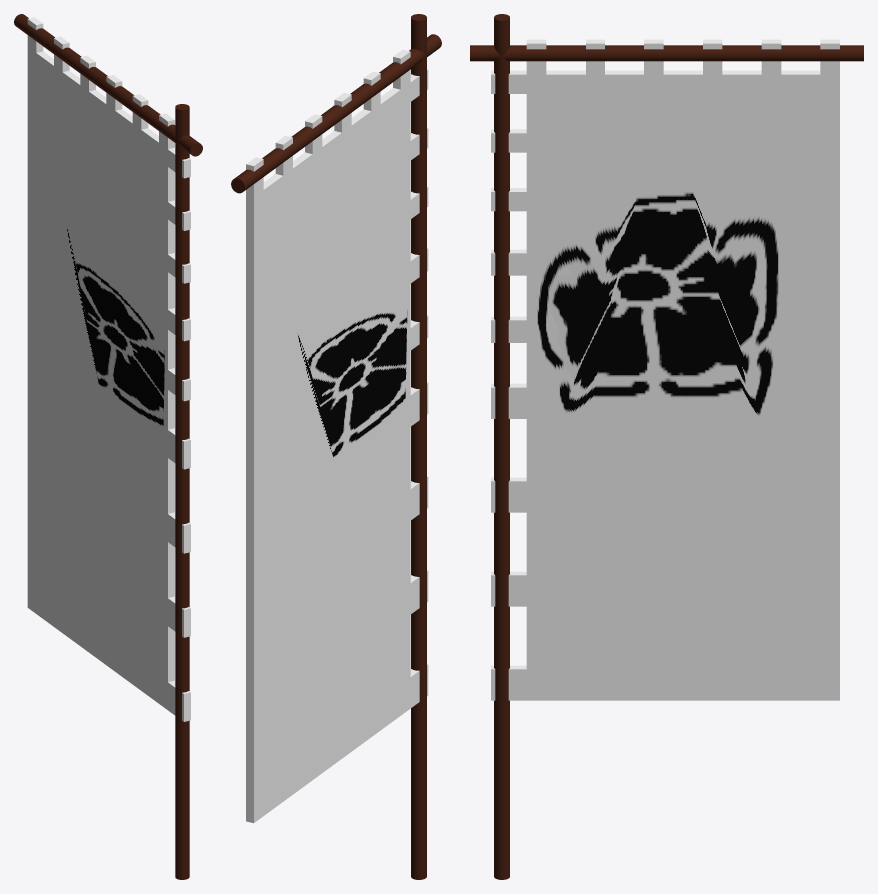
Rendered from hata.fbx.
3 renders of one model, left to right at view 1: azimuth 30°, elevation 25°; view 2: azimuth 150°, elevation 25°; view 3: azimuth 270°, elevation 25°, orthographic. The views are drawn at different scales.
Visible parts, largest first — view 1: 立方体; view 2: 立方体; view 3: 立方体.
Boxes of the visible parts, x1,y1,x2,y2 form: 立方体: (14,14,202,879); 立方体: (231,14,441,879); 立方体: (470,14,863,879).
Size of the model in its own units: 0.0279 by 1.65 by 0.6842.
